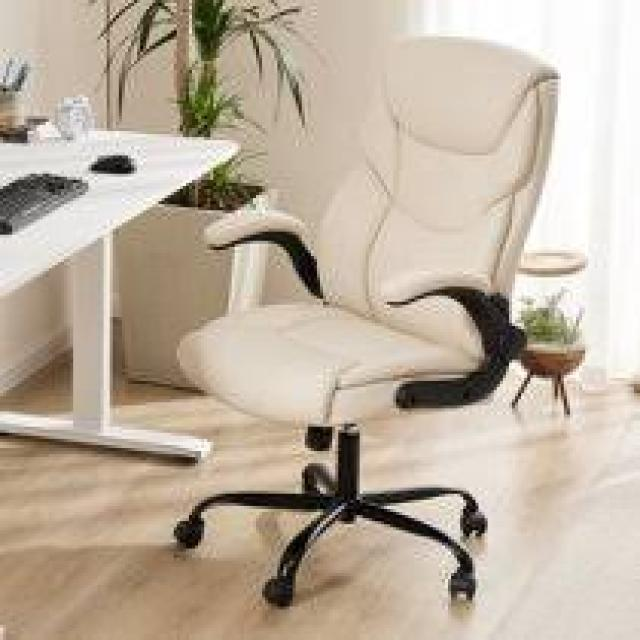chair: (125, 5, 639, 640)
